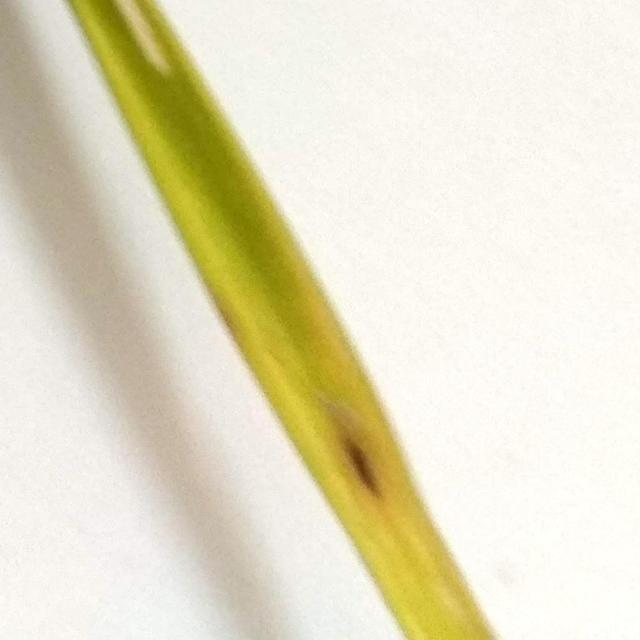Brown spot: (38, 1, 534, 640)
